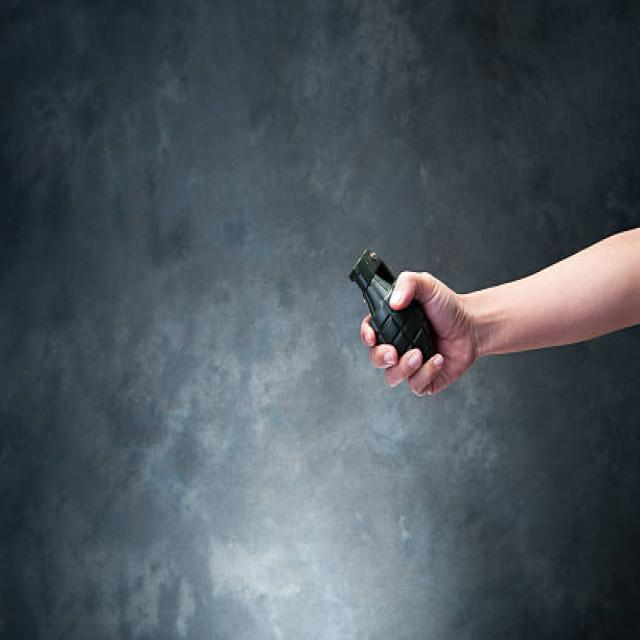grenade: (347, 244, 444, 380)
